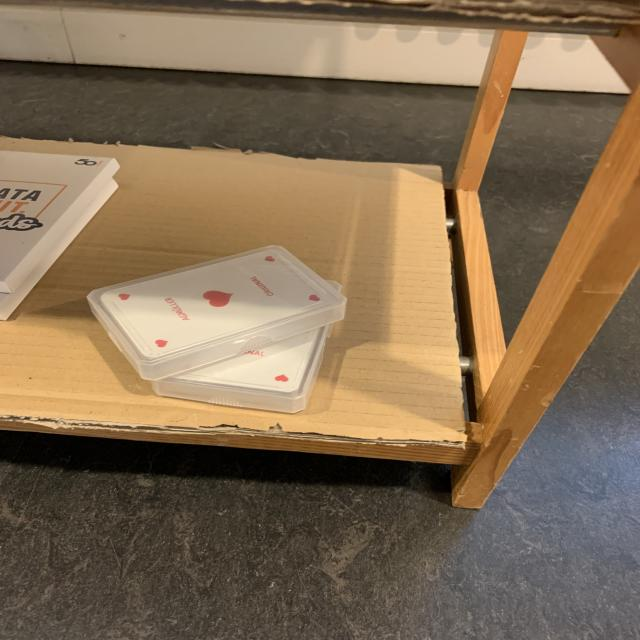Jasskarte: (87, 245, 346, 380), (152, 325, 332, 413)
